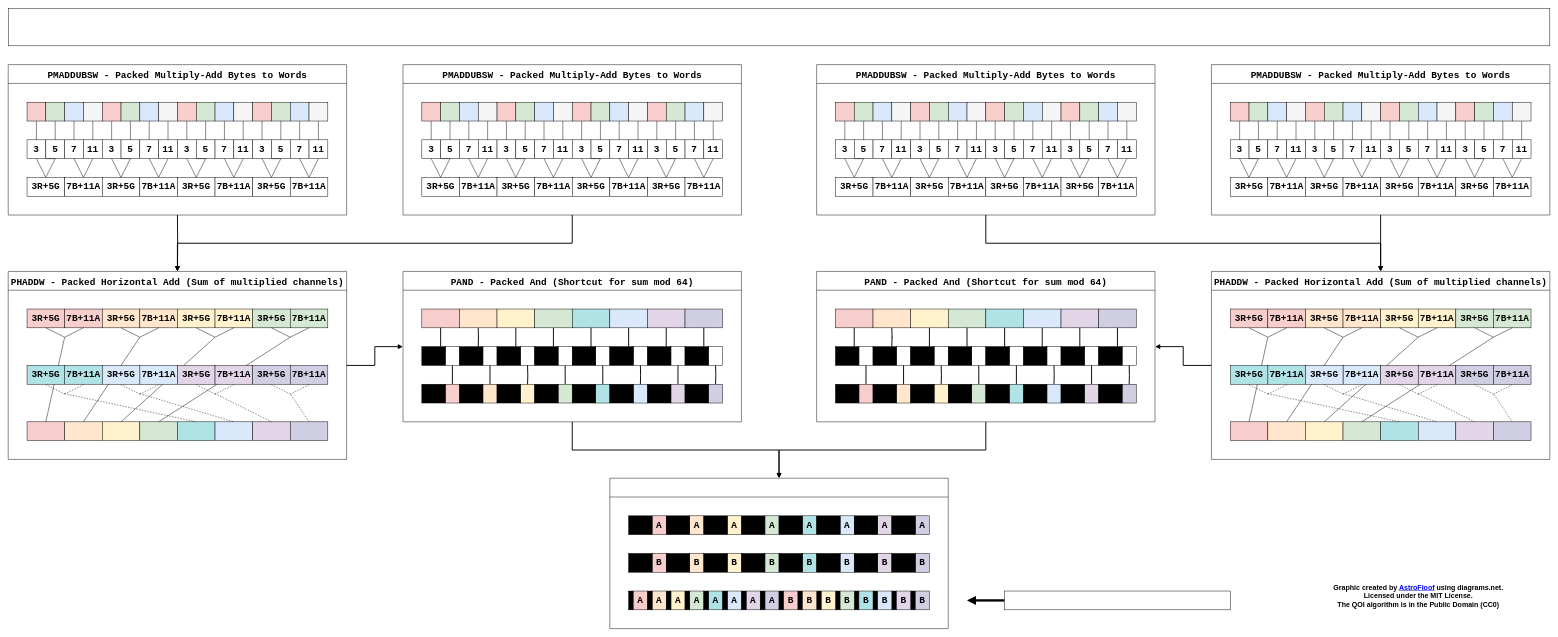
The diagram is 1558 pixels wide and 637 high, and some of its shapes have lost their labels. Here are the shapes that lost their labels. From the top down, the box of each, then its label:
(8, 8, 1550, 46): QOI Pixel Hashing using SIMD (SSE2, SSSE3)
(609, 478, 948, 629): PACKUSWB - Packing Words to Bytes
(1004, 591, 1230, 610): 16 Hashes from 64 bytes of RGBA
